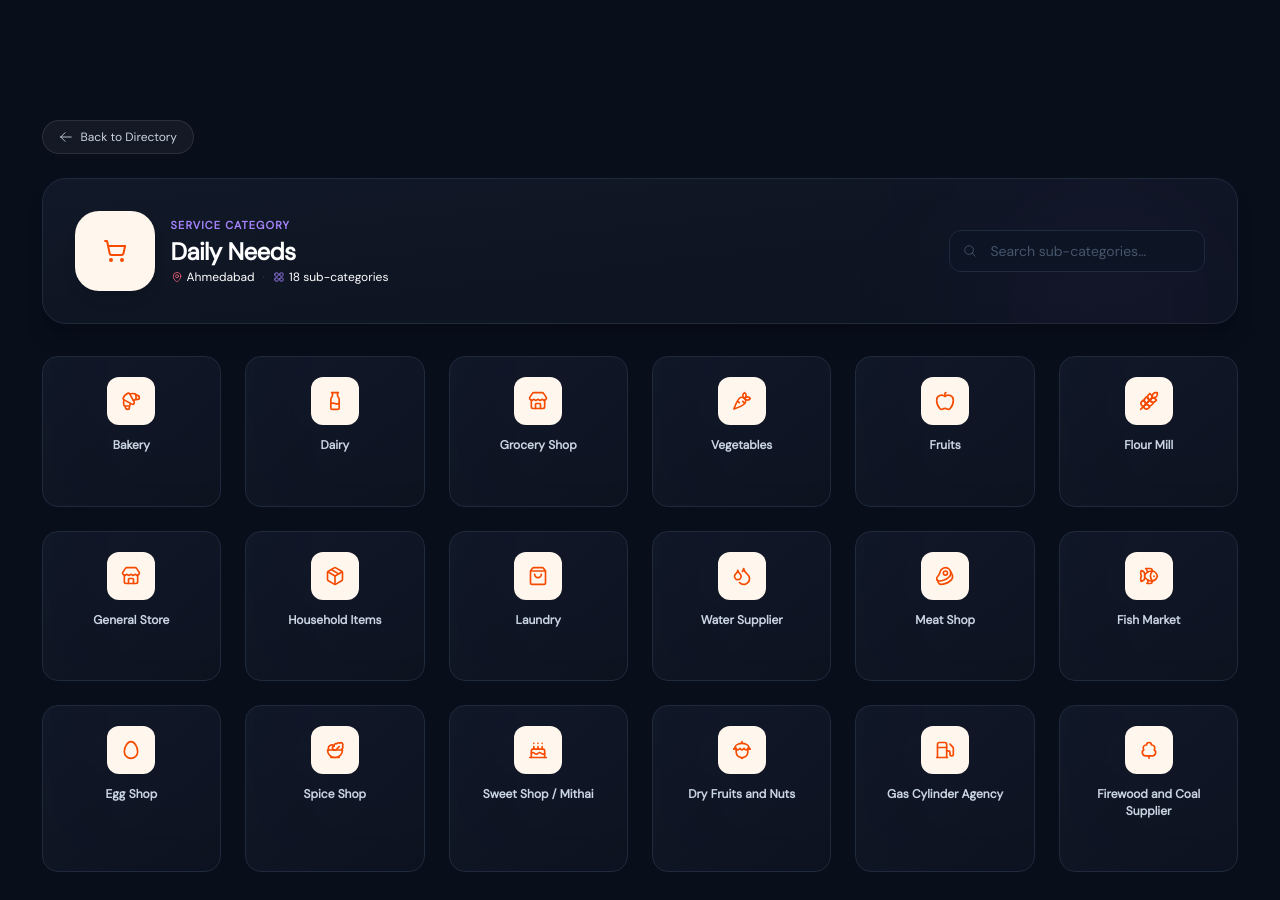
Test: SubCategories Page › shows "No sub-categories found" for invalid search
Type "NonExistentCategory" into the field with placeholder "Search sub-categories…" at (1077, 251), box x1=949 y1=230 x2=1205 y2=272
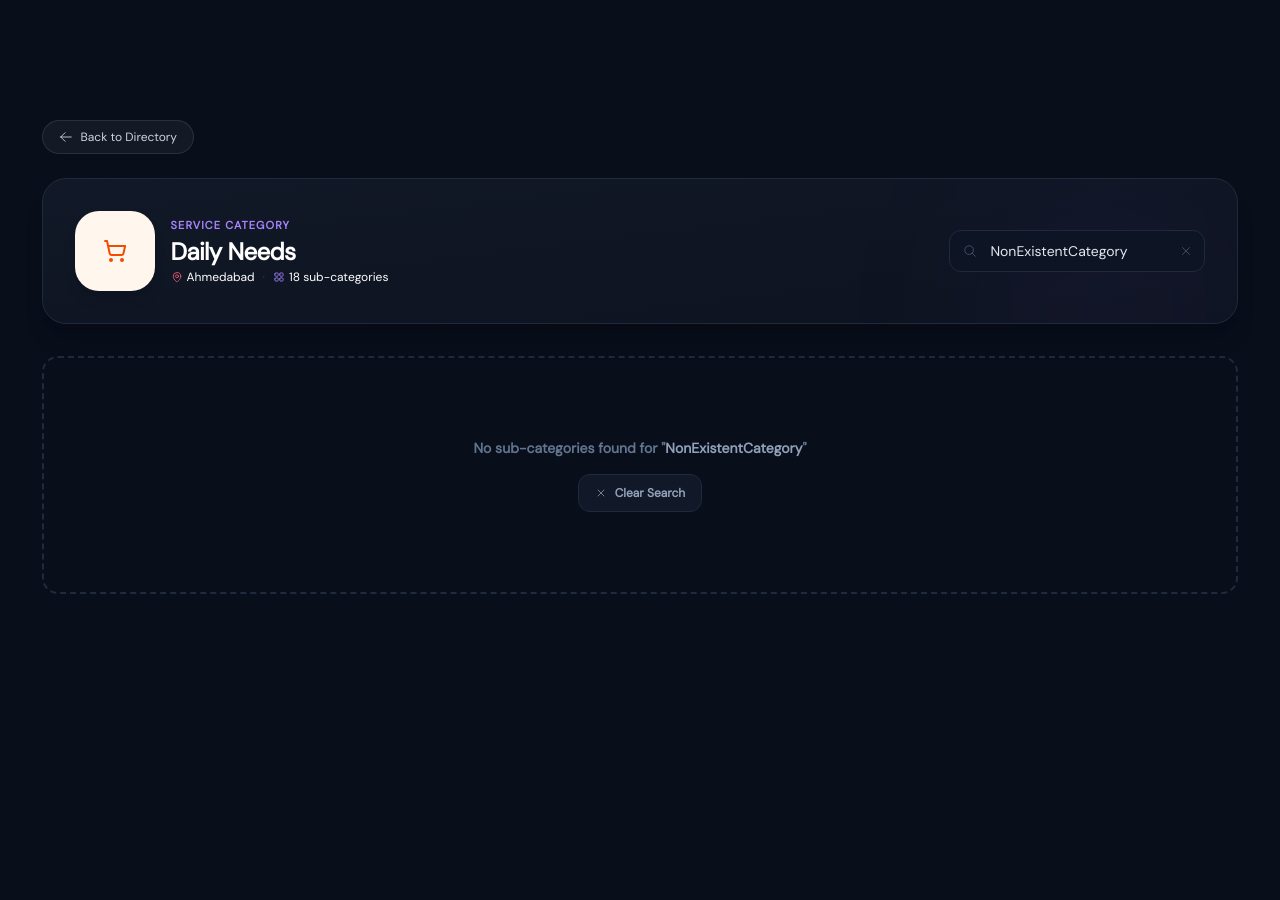
expect the text "No sub-categories found for \"NonExistentCategory\"" is shown: met, box x1=473 y1=438 x2=807 y2=458
Click the button "Clear Search" at (640, 493), box x1=578 y1=474 x2=702 y2=512
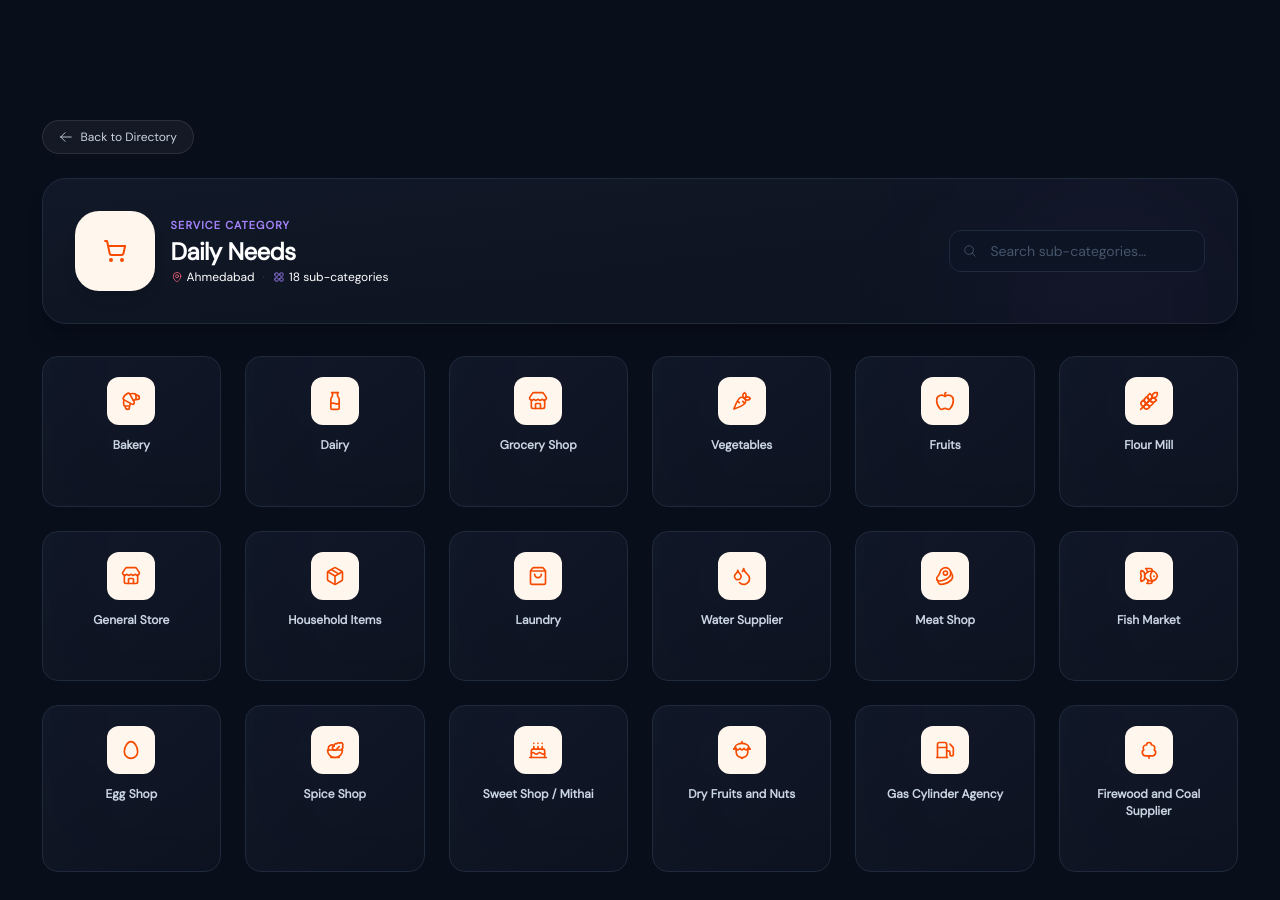
expect the field with placeholder "Search sub-categories…" is empty: met, box x1=949 y1=230 x2=1205 y2=272
